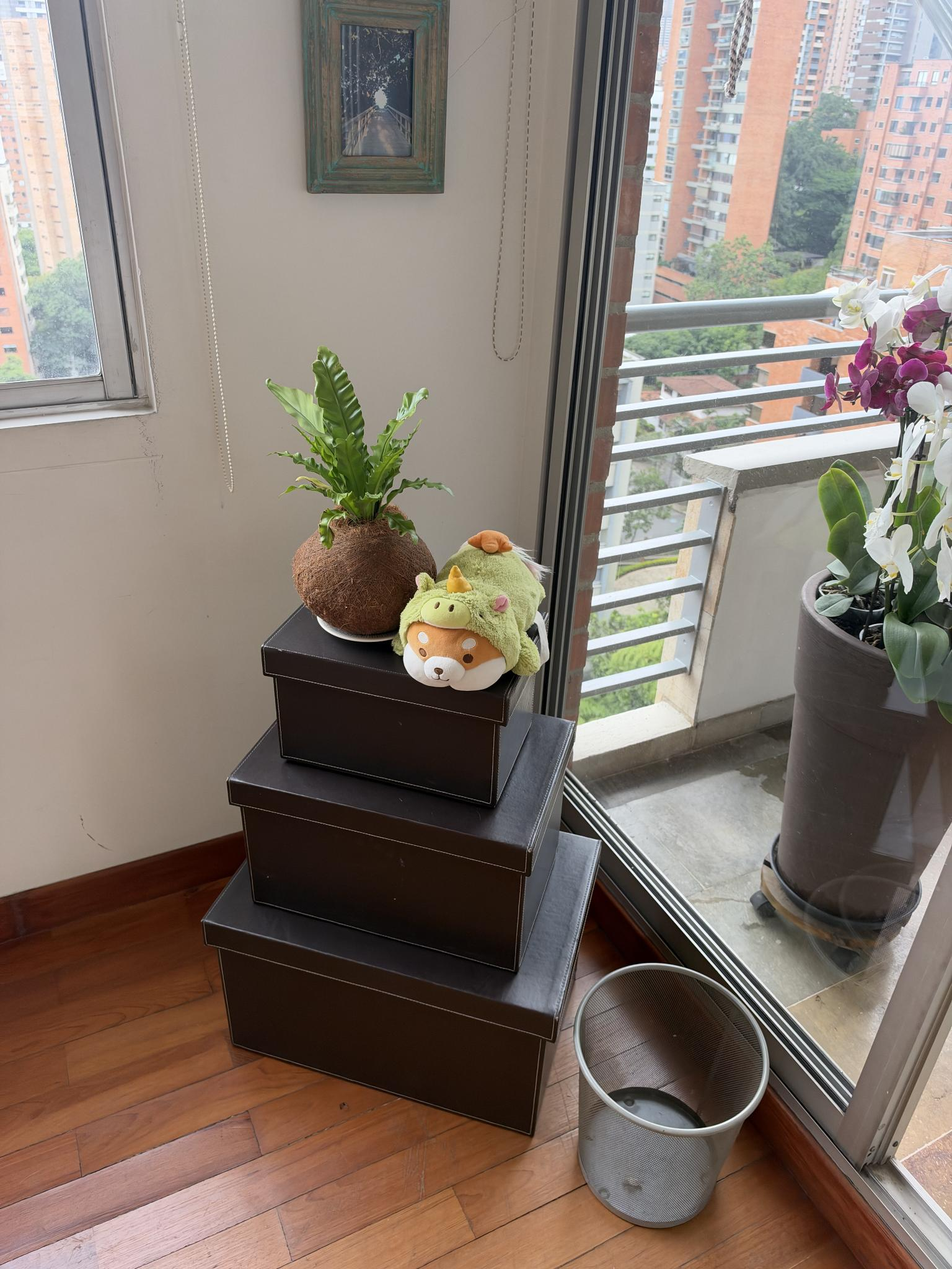peluche_martin: (391, 529, 553, 692)
